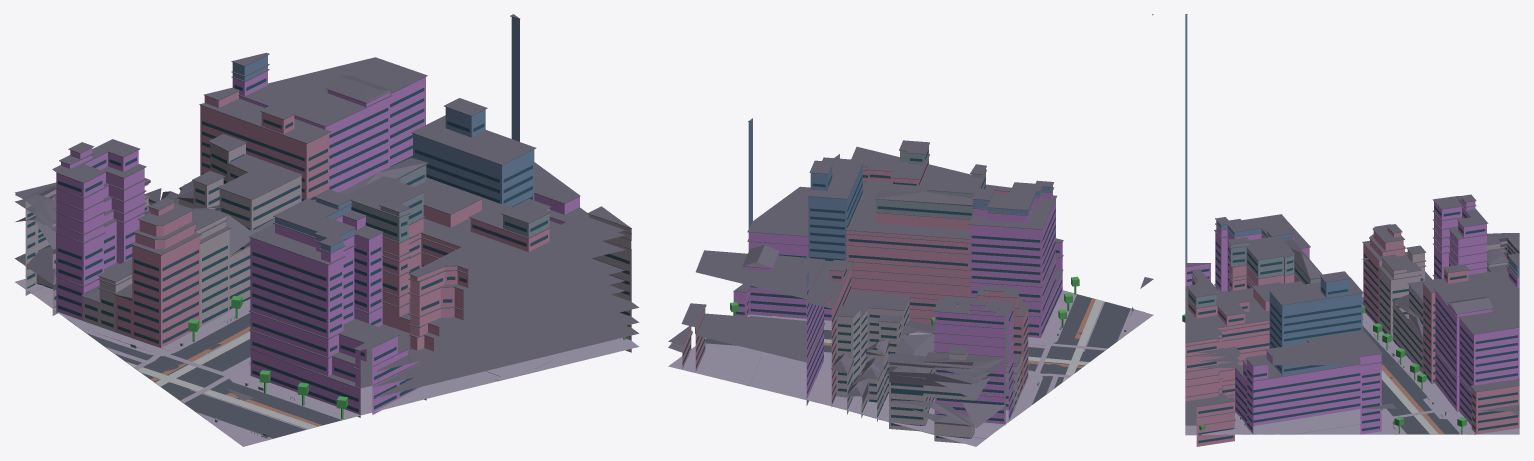
The picture shows the model from 3 angles, left to right: view 1: azimuth 30°, elevation 25°; view 2: azimuth 150°, elevation 25°; view 3: azimuth 270°, elevation 25°; orthographic projection. The views are drawn at different scales.
Visible parts, largest first — view 1: compiled-chunk; view 2: compiled-chunk; view 3: compiled-chunk.
Part boxes in pixels (x1,y1,x2,y2): compiled-chunk: (14,14,639,446); compiled-chunk: (668,14,1153,446); compiled-chunk: (1182,14,1519,446).
Size of the model in its own units: 121 by 115 by 121.
